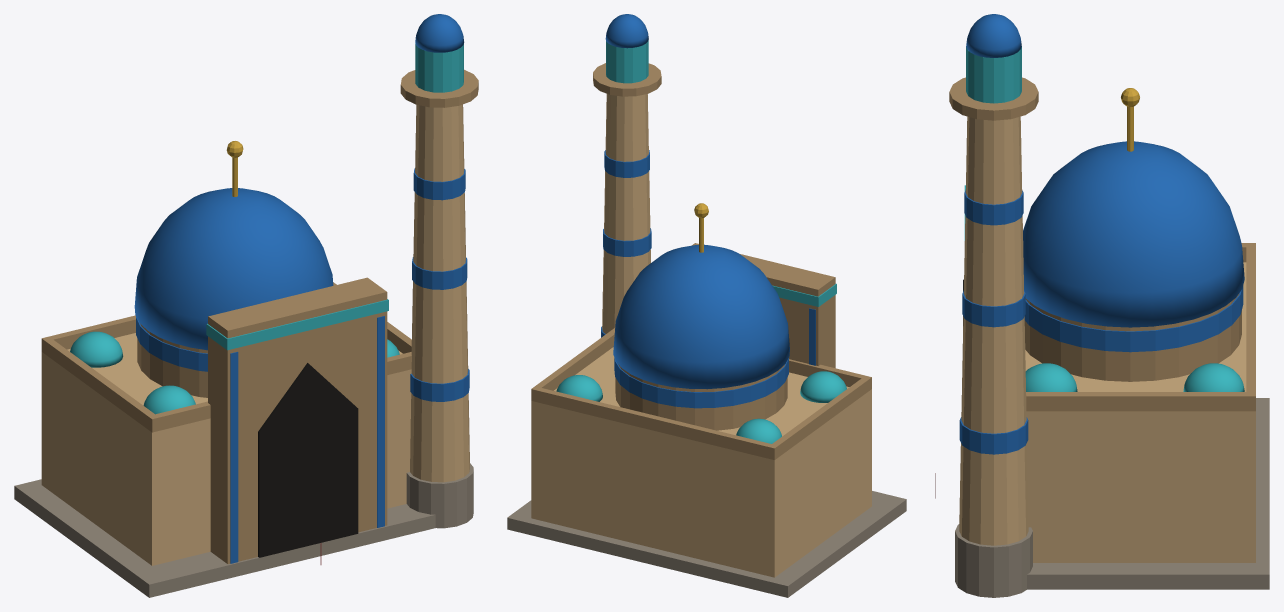
File: mosque.glb
3 views of the same model, side by side, from view 1: azimuth 30°, elevation 25°; view 2: azimuth 150°, elevation 25°; view 3: azimuth 270°, elevation 25° (orthographic). The views are drawn at different scales.
Visible parts, largest first — view 1: Mosque; view 2: Mosque; view 3: Mosque.
Part boxes in pixels (bbox=[...]): Mosque: bbox=[14, 14, 478, 597]; Mosque: bbox=[507, 14, 906, 597]; Mosque: bbox=[935, 14, 1269, 597].
Bounding box in the file's own units: 15.9 × 22.4 × 12.01.
